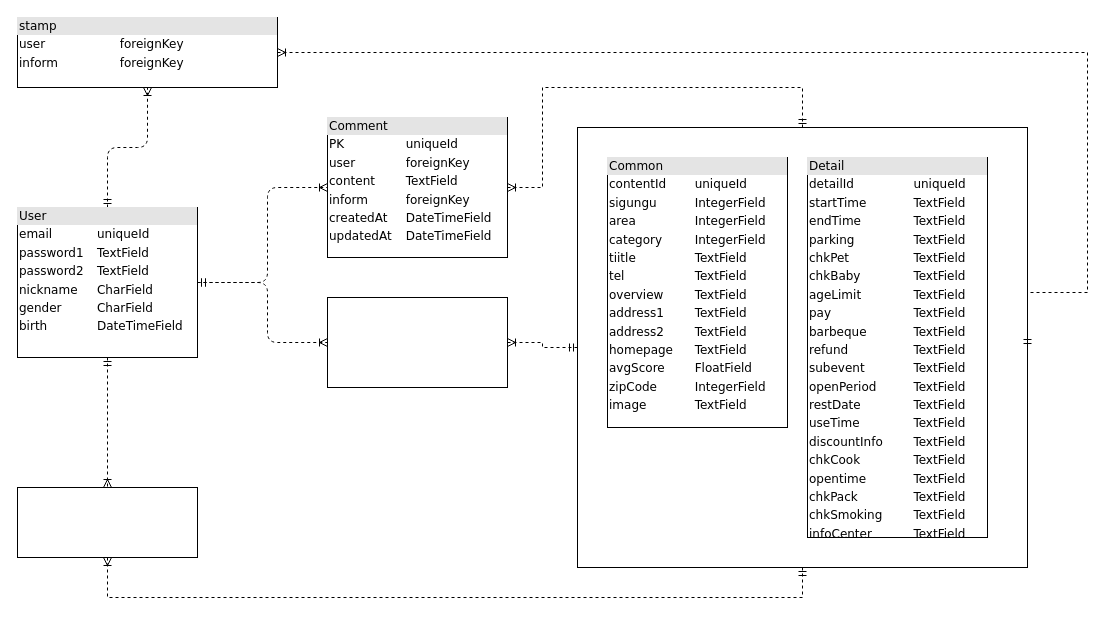
Some shapes in this 1114 by 624 pixel diagram are drawn without their labels. The centre of each missing label's shape, as x and y in pixels:
Bookmark user foreignKey inform foreignKey: (107,522)
Score PK uniqueId user foreignKey inform foreignKey score IntegerField: (417,342)
